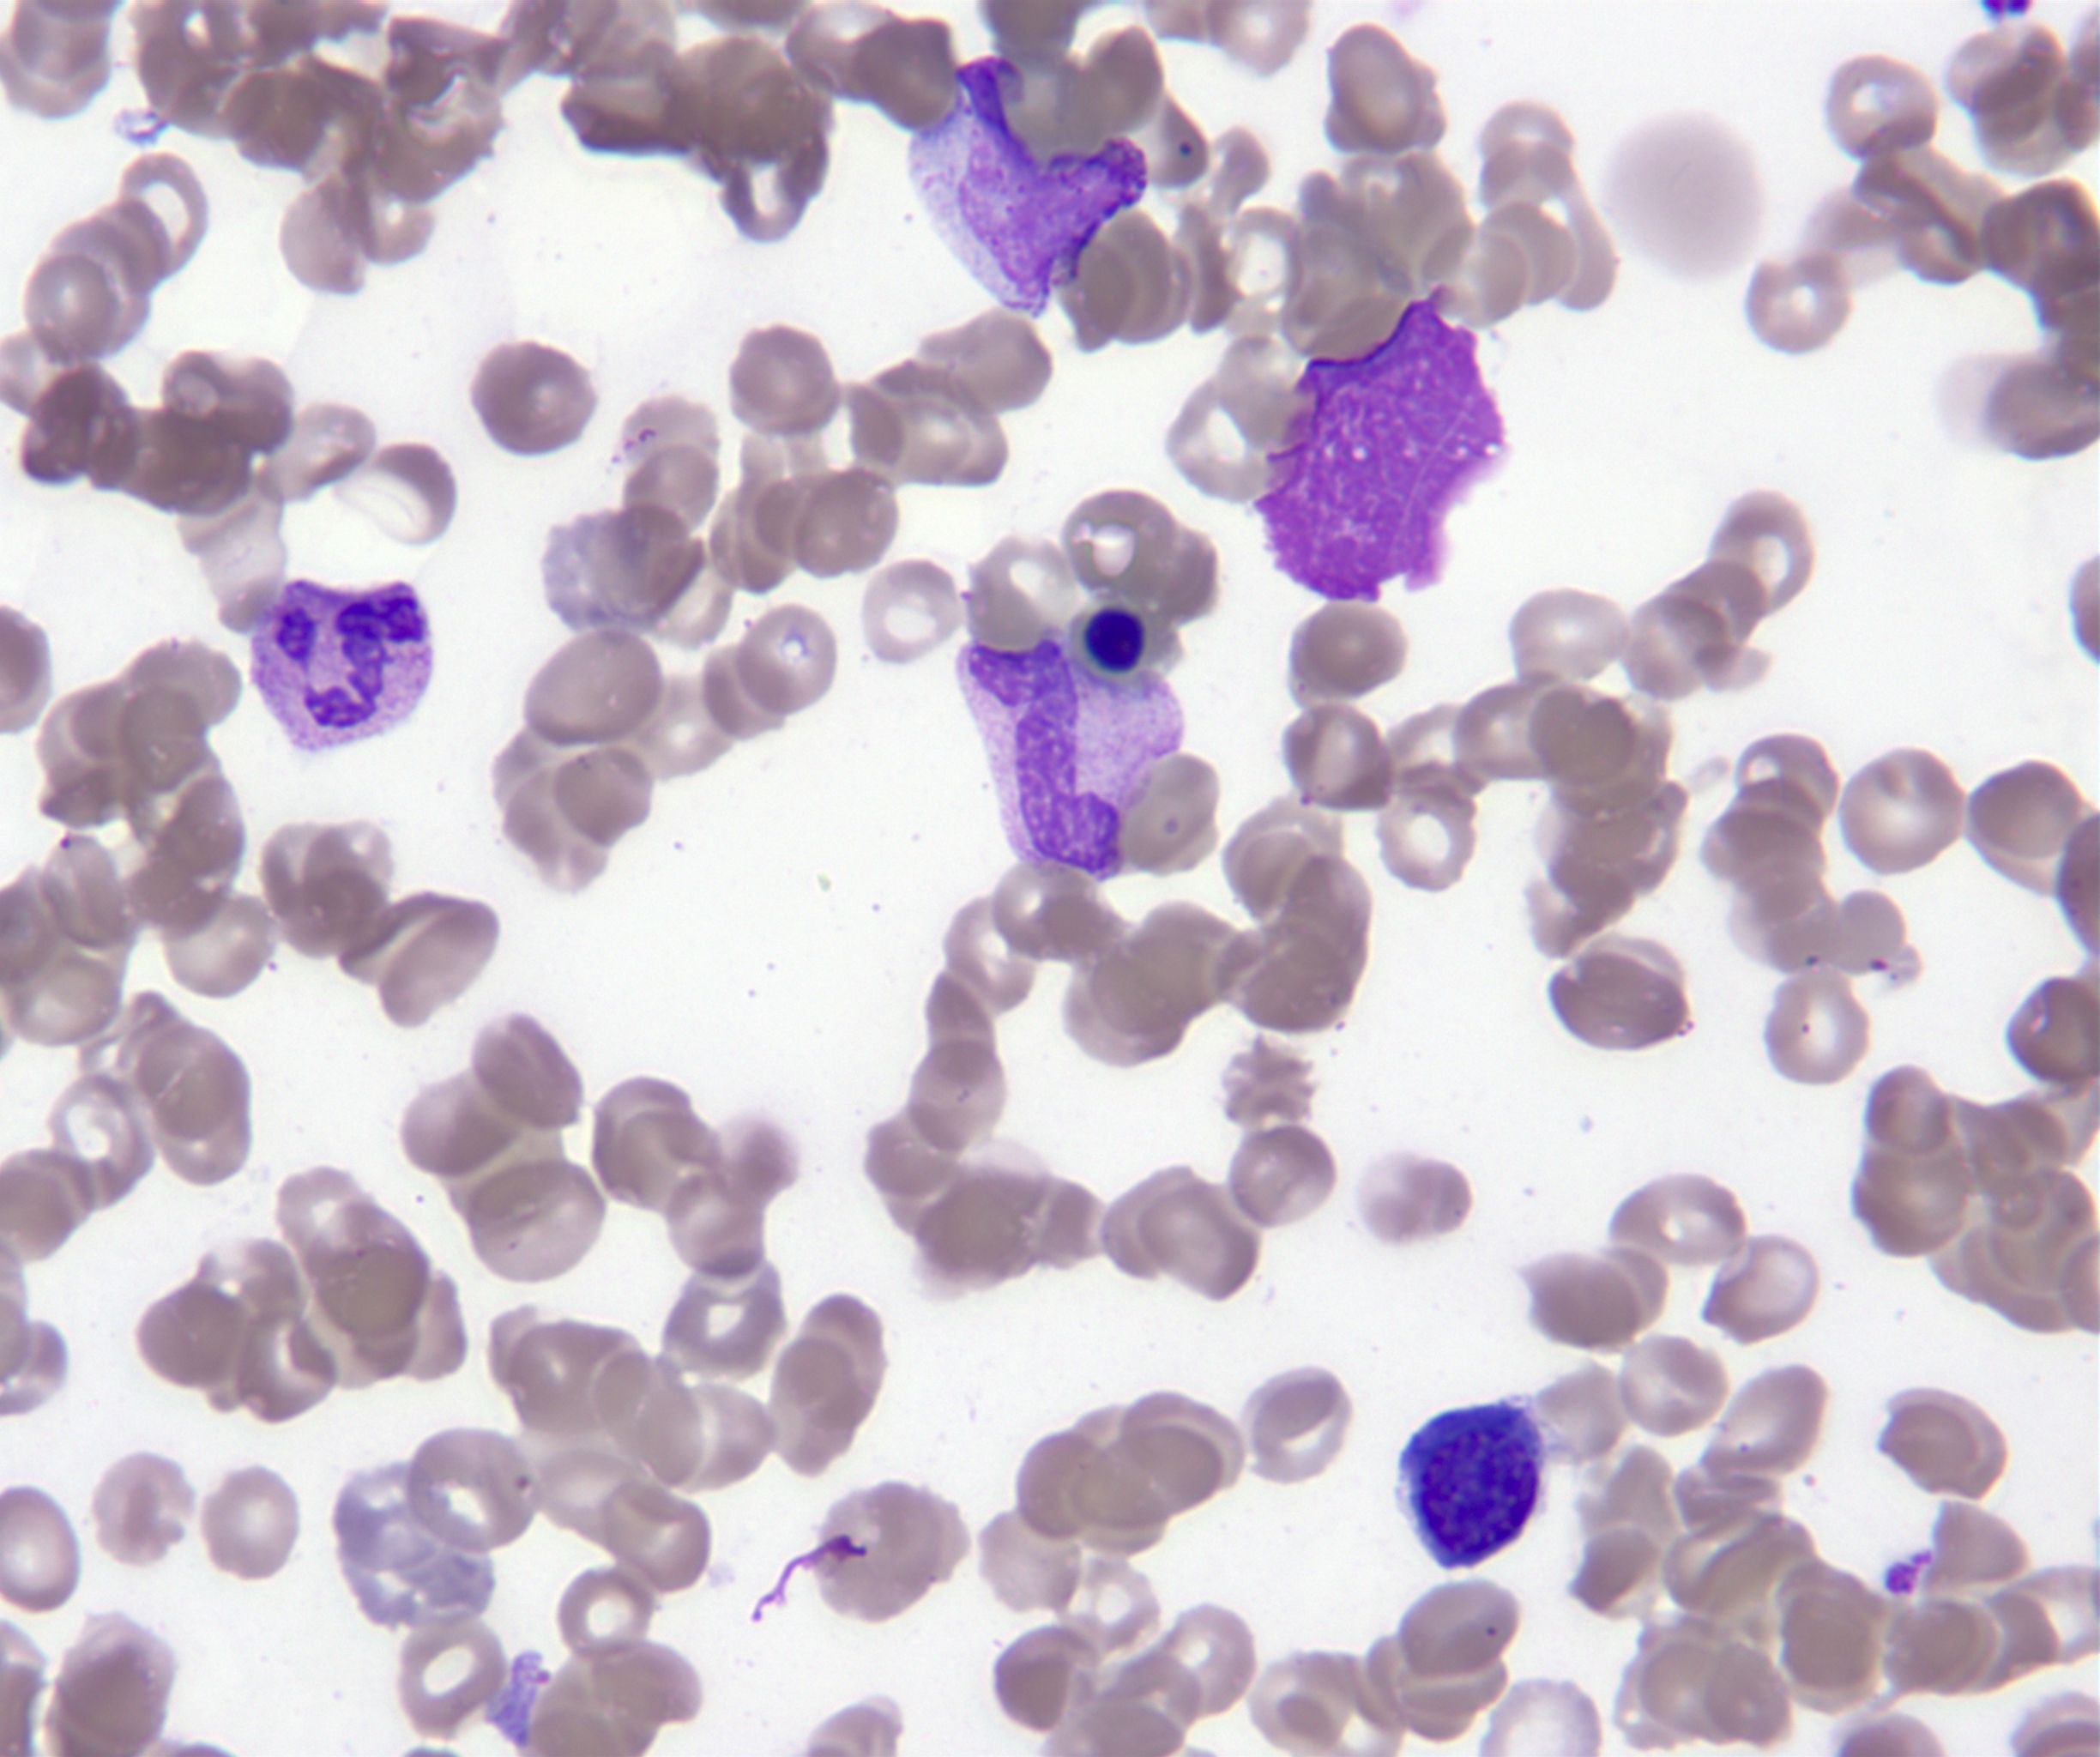23: (1390, 1401, 1542, 1572)
24: (1064, 590, 1162, 682)
3: (907, 58, 1151, 319)
5: (958, 635, 1181, 881)
6: (249, 578, 434, 754)
x: (1251, 286, 1505, 604)
